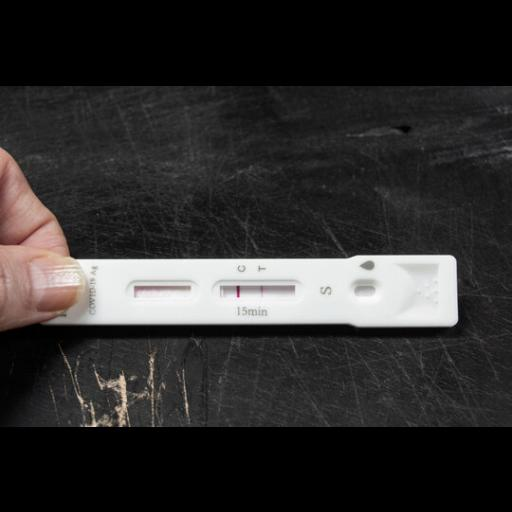Pos: (79, 254, 457, 326)
